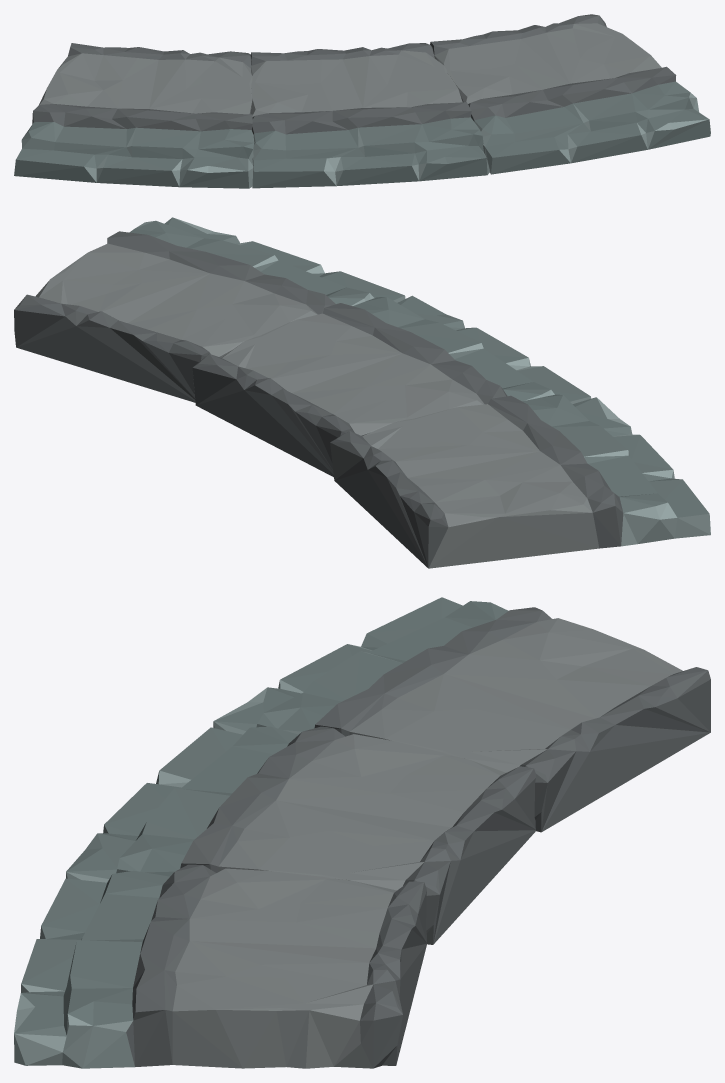
File: MCastle_CYardSteps_Corner_01.FBX
3 views of the same model, one above another, from view 1: azimuth 30°, elevation 25°; view 2: azimuth 150°, elevation 25°; view 3: azimuth 270°, elevation 25° (orthographic). The views are drawn at different scales.
Parts seen in each view (by area): view 1: MCastle_CYardSteps_Corner_01_LOD0; view 2: MCastle_CYardSteps_Corner_01_LOD0; view 3: MCastle_CYardSteps_Corner_01_LOD0.
Part boxes in pixels (left/top/right/bottom): MCastle_CYardSteps_Corner_01_LOD0: left=14, top=14, right=710, bottom=188; MCastle_CYardSteps_Corner_01_LOD0: left=14, top=217, right=710, bottom=568; MCastle_CYardSteps_Corner_01_LOD0: left=14, top=597, right=710, bottom=1068.
Size of what is drawn, in the model's own units: 8.93 by 0.5971 by 5.89.
